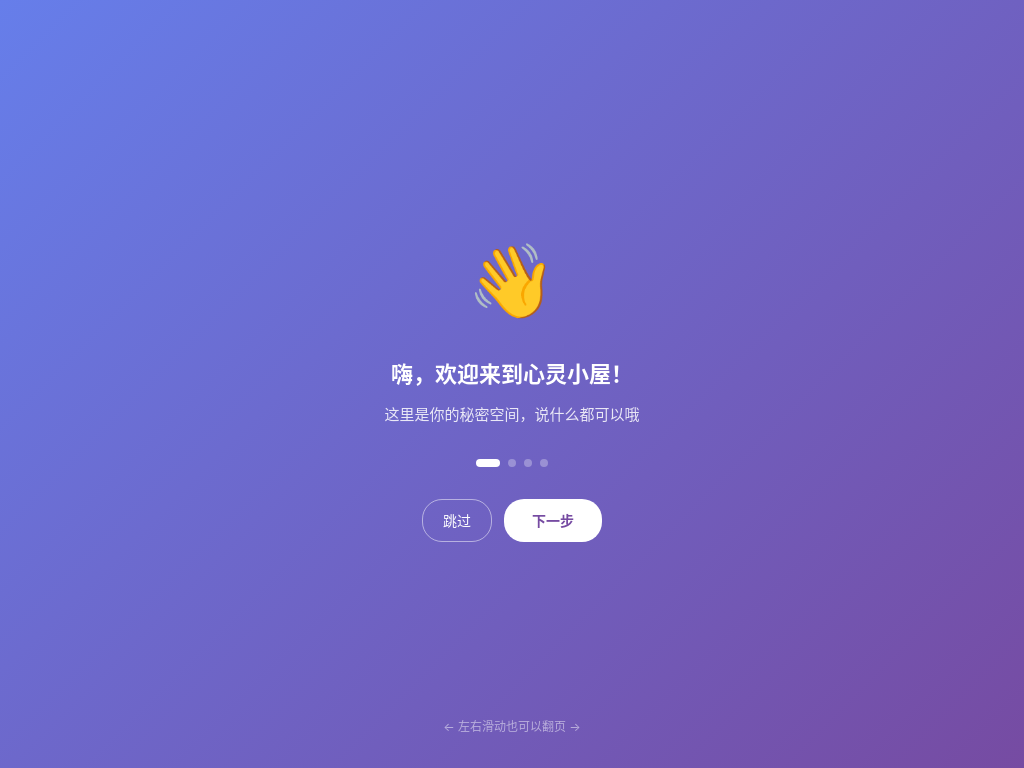
Test: WelcomeGuide › 进度点可点击跳转
The width and height of the screenshot is (1024, 768).
Click the button named "第 3 页" at [528, 463], box [524,459,532,467]
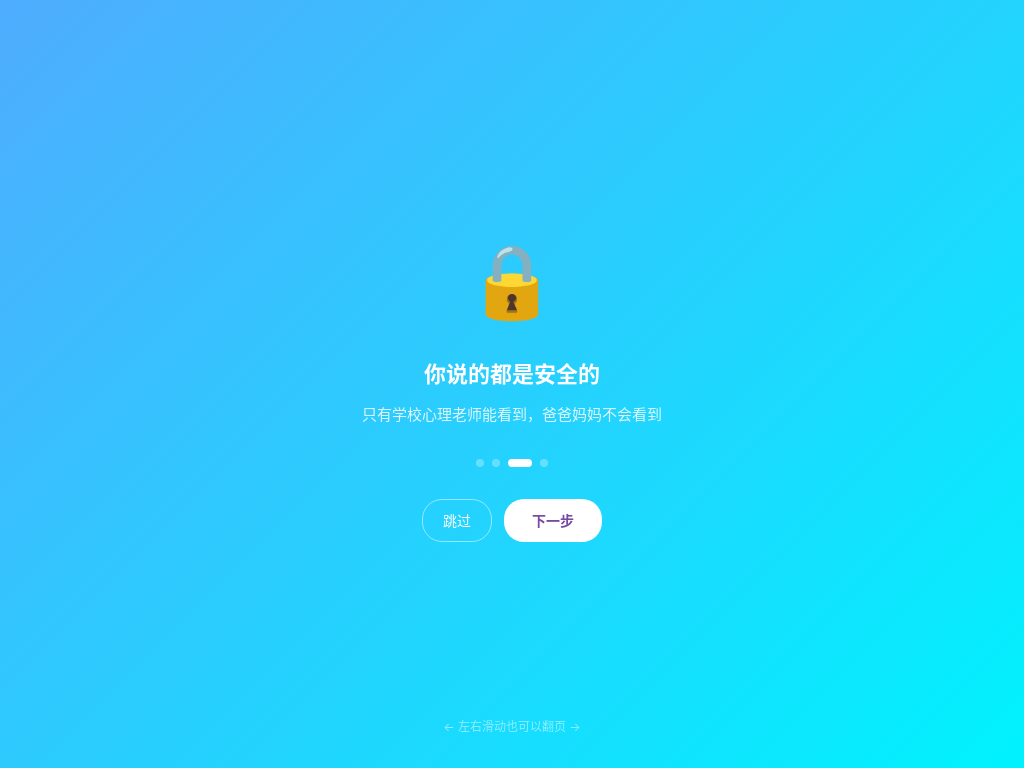
Check: the heading "你说的都是安全的" is shown, box [424,358,600,391]
